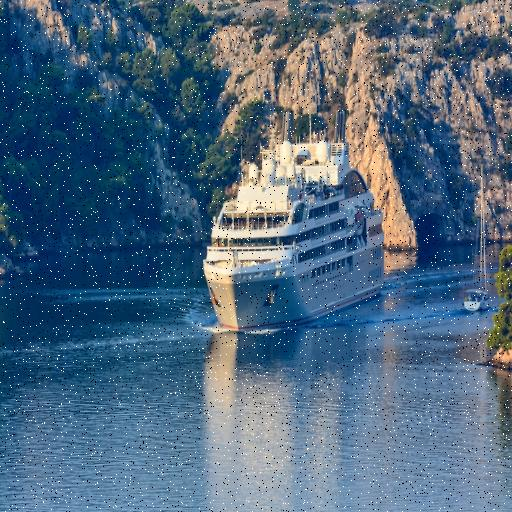cruises: (201, 106, 397, 337)
